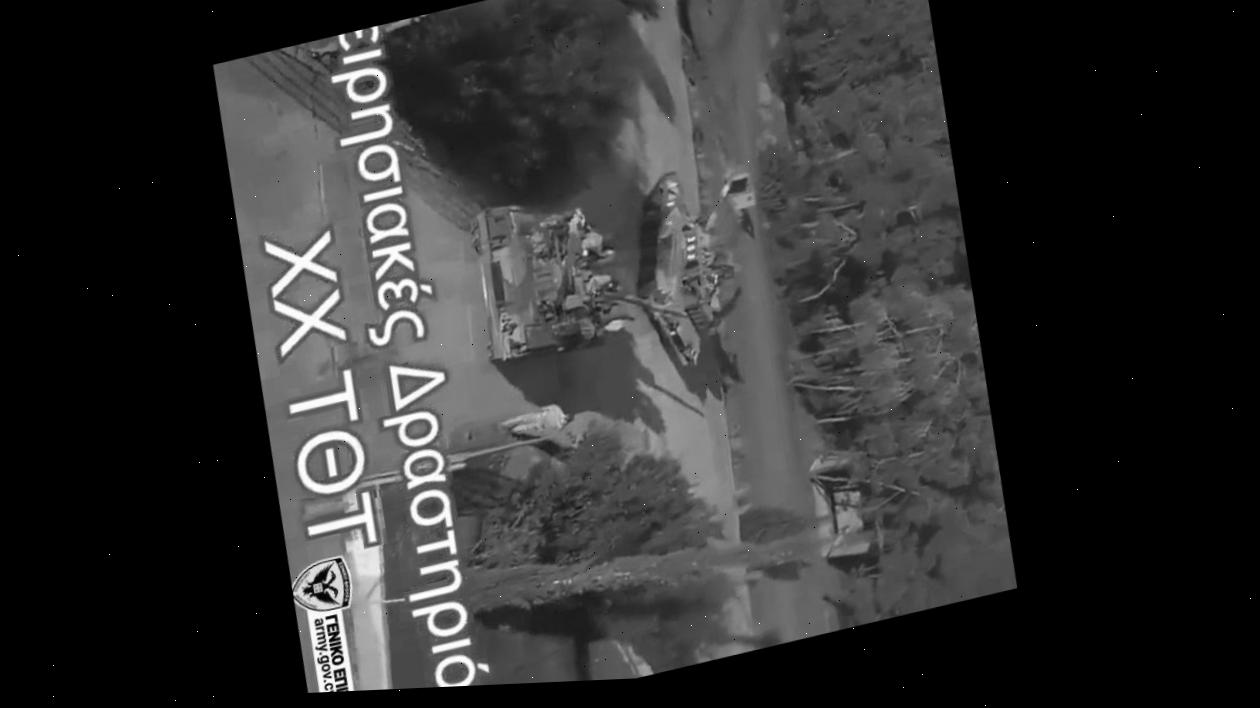tank: (458, 166, 696, 369), (613, 153, 775, 378)
